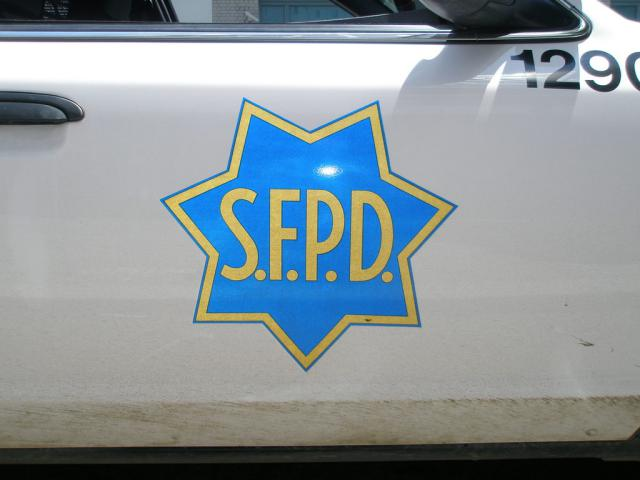Door-handle: (0, 88, 89, 130)
